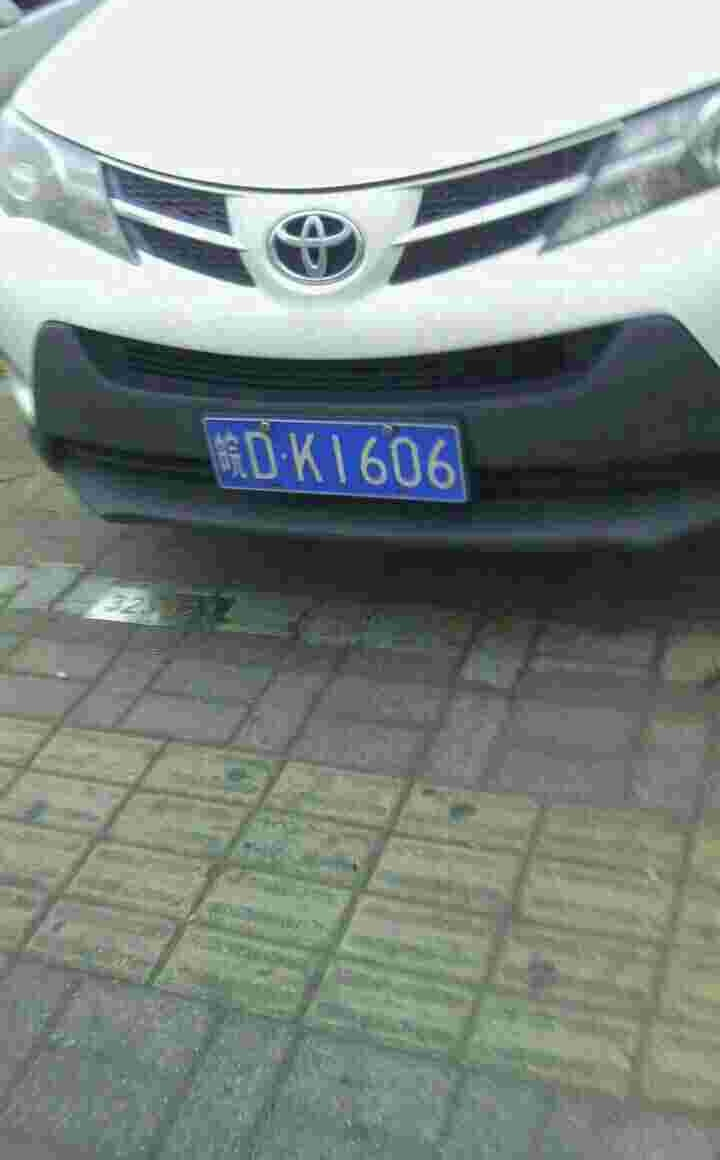license_plate: (201, 424, 470, 495)
